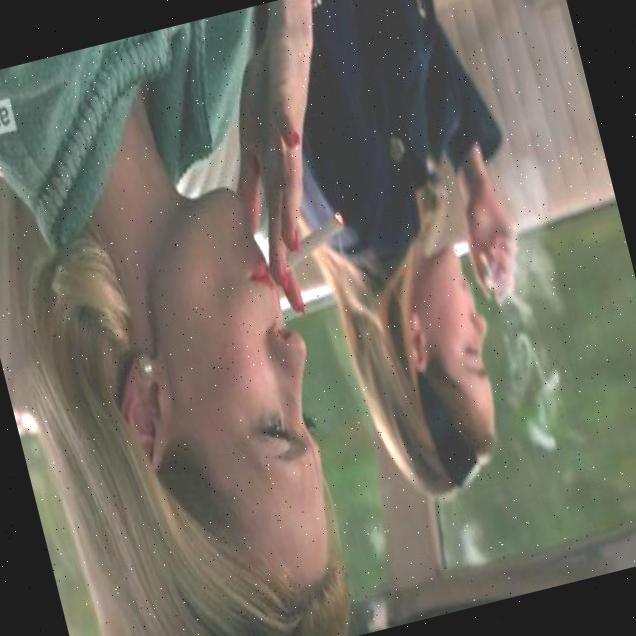smoke: (484, 142, 569, 310), (498, 324, 579, 453)
